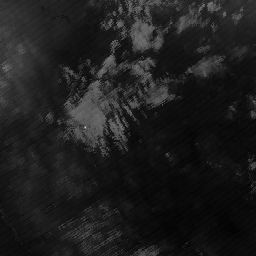Target: (83, 125, 88, 130)
